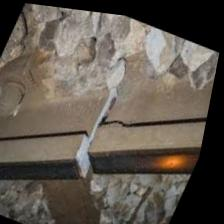person: (16, 33, 191, 204)
